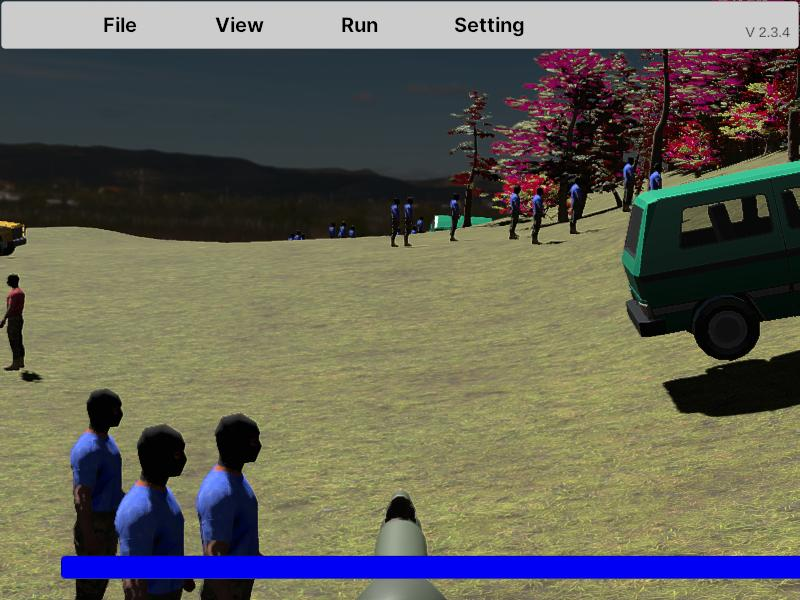Human: (70, 384, 141, 598), (112, 422, 196, 600), (195, 411, 262, 599), (1, 271, 25, 372), (566, 173, 584, 236), (531, 186, 546, 245), (622, 155, 635, 213), (509, 185, 521, 239)
car: (621, 155, 800, 364), (0, 203, 27, 258), (0, 204, 27, 257)
